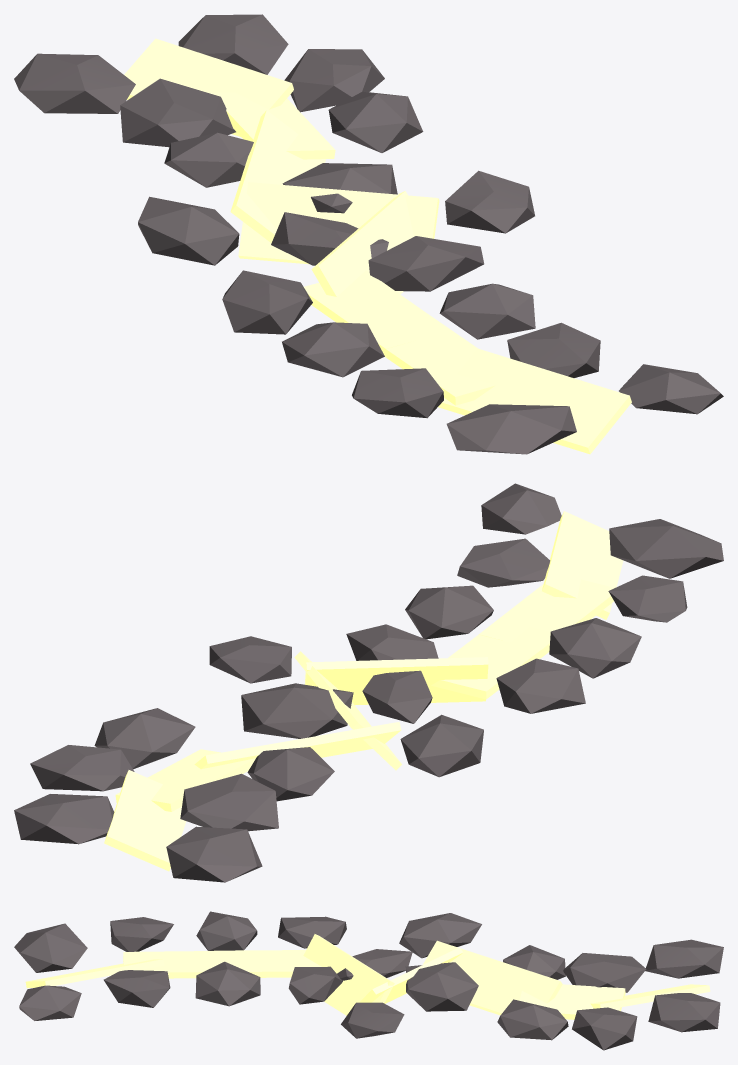
File: ENV_Ember_LavaFissure_C.fbx
3 renders of one model, top to bottom at view 1: azimuth 30°, elevation 25°; view 2: azimuth 150°, elevation 25°; view 3: azimuth 270°, elevation 25°, orthographic. The views are drawn at different scales.
Visible parts, largest first — view 1: ENV_Ember_LavaFissure_C; view 2: ENV_Ember_LavaFissure_C; view 3: ENV_Ember_LavaFissure_C.
Boxes of the visible parts, left/top/right/bottom form: ENV_Ember_LavaFissure_C: left=14, top=14, right=723, bottom=454; ENV_Ember_LavaFissure_C: left=14, top=483, right=723, bottom=882; ENV_Ember_LavaFissure_C: left=14, top=911, right=723, bottom=1050.
Bounding box in the file's own units: 1.79 × 0.3001 × 4.3.
